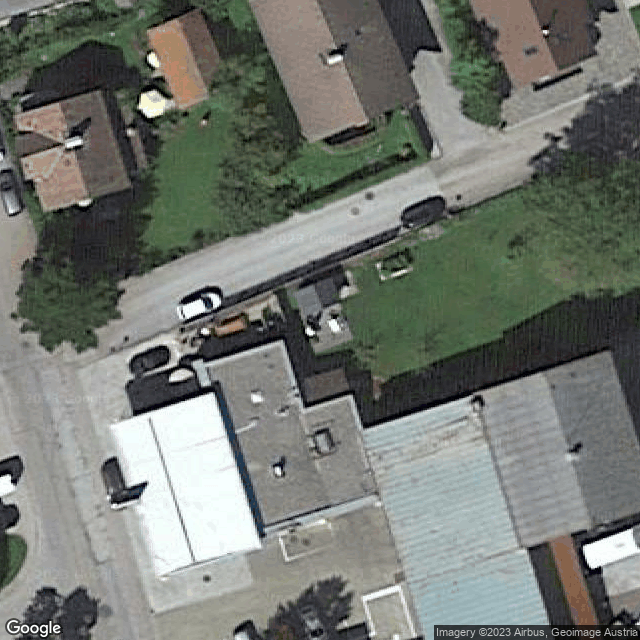dormer: (14, 133, 66, 181)
obstacles: (311, 430, 338, 456), (63, 134, 87, 153), (326, 52, 349, 69), (562, 447, 583, 465), (249, 390, 266, 407), (270, 465, 287, 481), (541, 29, 553, 39)
ridge: (542, 376, 593, 525), (148, 414, 193, 564), (317, 2, 368, 119), (60, 105, 90, 197), (177, 21, 208, 97), (529, 2, 559, 68)
roof: (362, 396, 550, 638), (202, 342, 381, 531), (473, 352, 640, 547), (111, 393, 263, 577), (248, 1, 420, 144), (14, 92, 132, 214), (469, 1, 597, 89), (148, 10, 234, 108)
